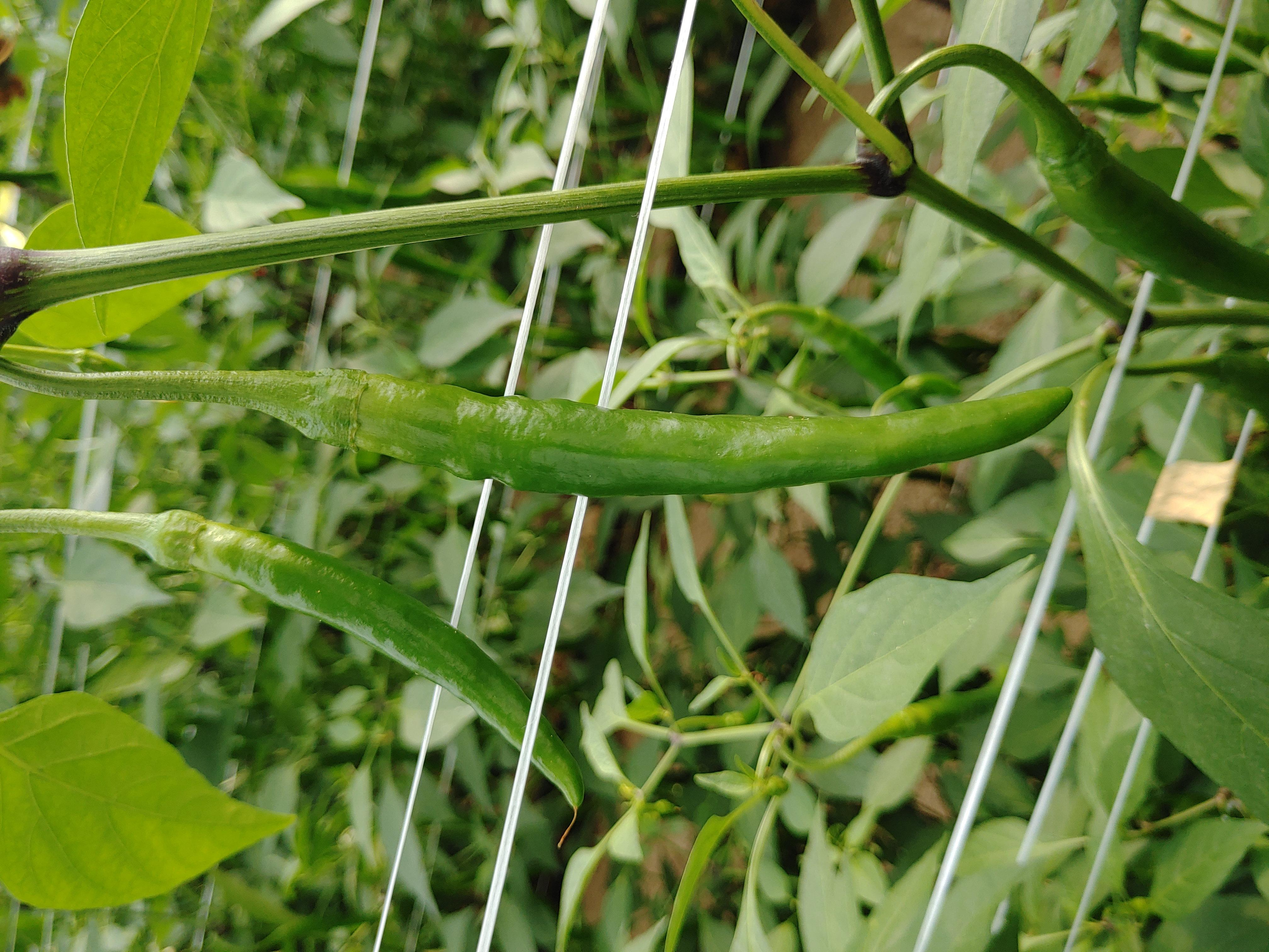Buah Cabai Sehat: (135, 504, 586, 815), (279, 364, 1077, 502)
